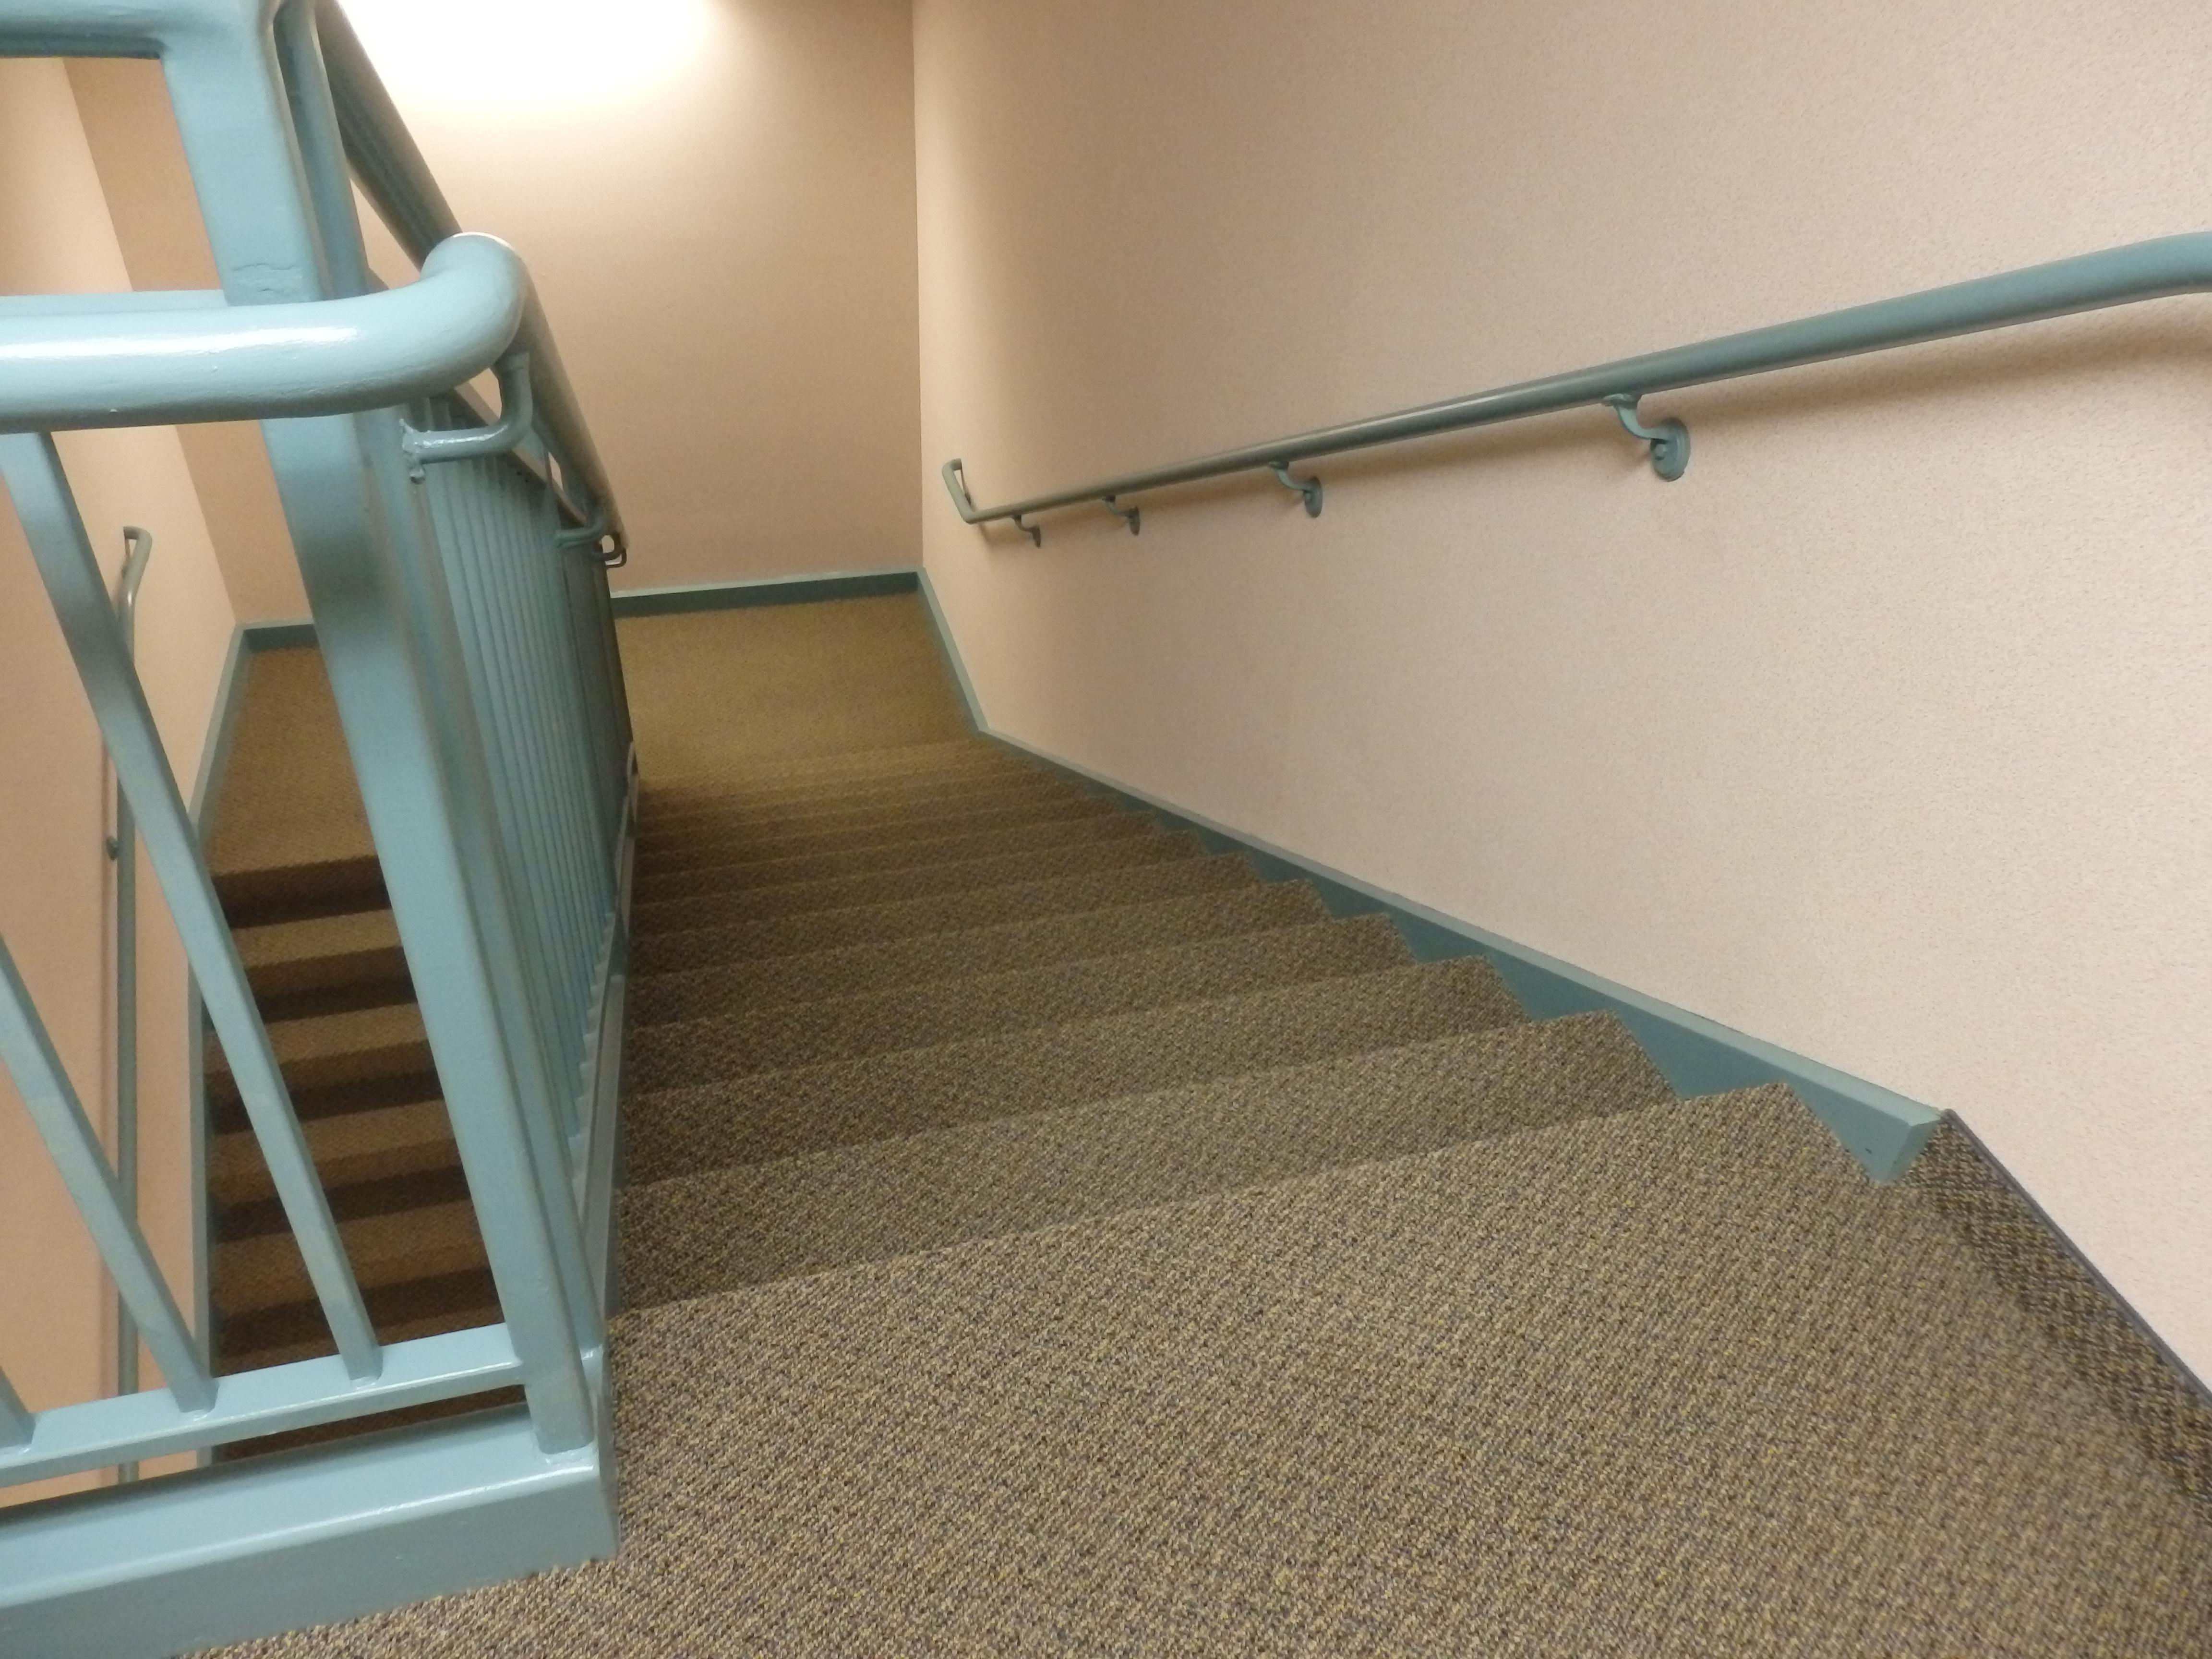stairs_down: (639, 714, 1726, 1384)
